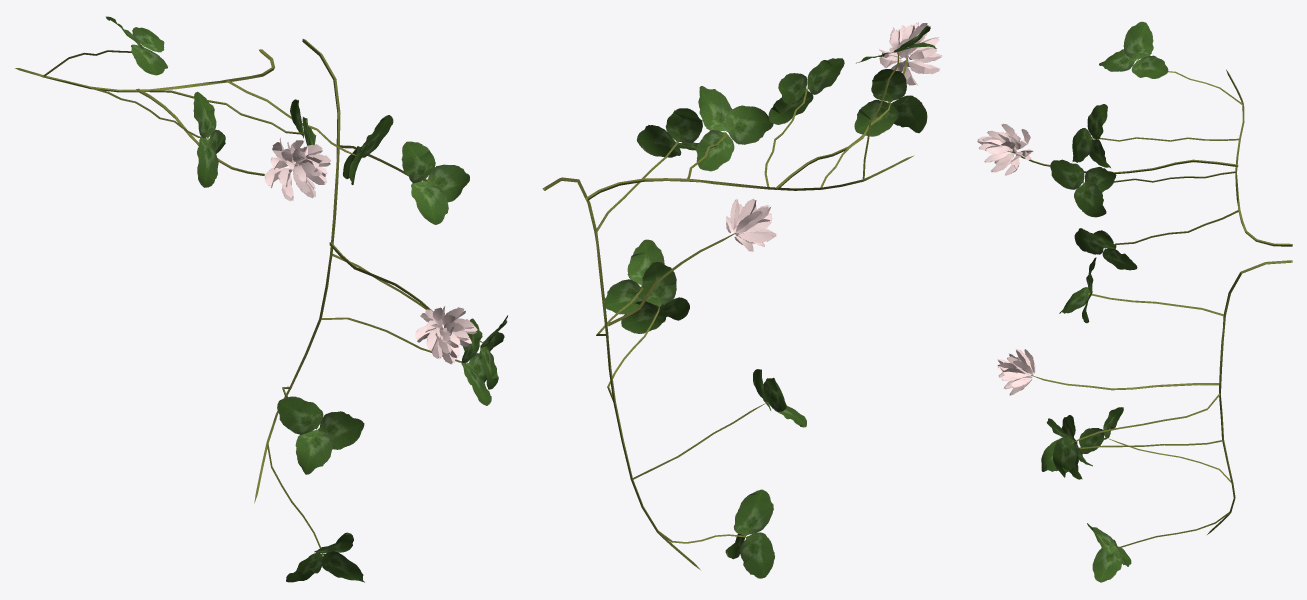
3 renders of one model, left to right at view 1: azimuth 30°, elevation 25°; view 2: azimuth 150°, elevation 25°; view 3: azimuth 270°, elevation 25°, orthographic. The views are drawn at different scales.
Parts seen in each view (by area): view 1: GC18_2; view 2: GC18_2; view 3: GC18_2.
Boxes of the visible parts, <box> form: GC18_2: <box>15,16,507,582</box>; GC18_2: <box>542,22,942,578</box>; GC18_2: <box>977,21,1292,582</box>.
Bounding box in the file's own units: 1.14 × 1.65 × 0.9757.
Materials: 3 (3 with a texture image).
